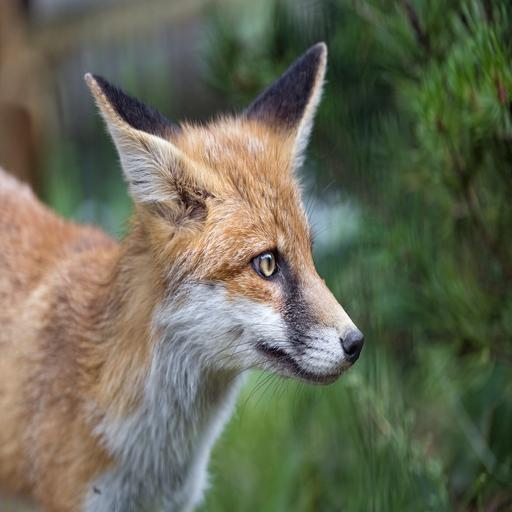Fox: (0, 37, 369, 511)
